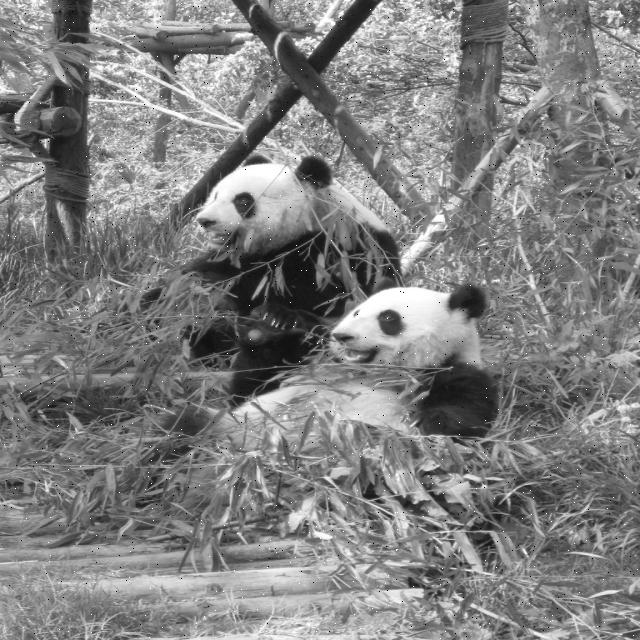panda: (136, 269, 500, 521), (125, 154, 401, 398)
